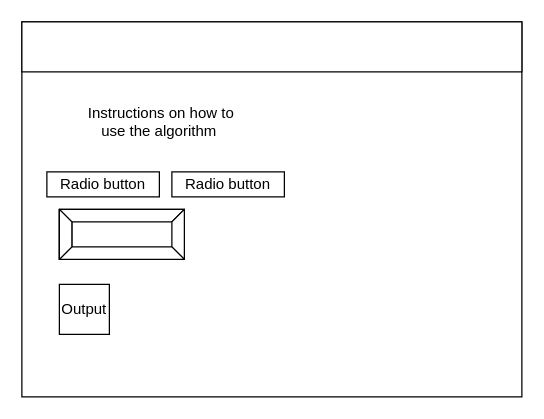
The diagram is 544 pixels wide and 419 high, and some of its shapes have lost their labels. The centre of each missing label's shape, as x and y in pixels:
"Generate" goes at pixel 121 233.
"Header" goes at pixel 271 46.
